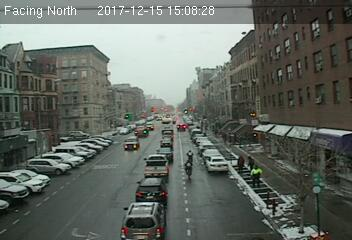bicycle: (184, 159, 194, 181)
car: (121, 202, 166, 240), (135, 178, 168, 207), (143, 154, 170, 179), (206, 156, 229, 174), (156, 146, 172, 160), (123, 136, 140, 148), (176, 123, 187, 130)
pedestrian: (252, 165, 262, 187), (237, 155, 246, 177), (247, 155, 257, 174)
